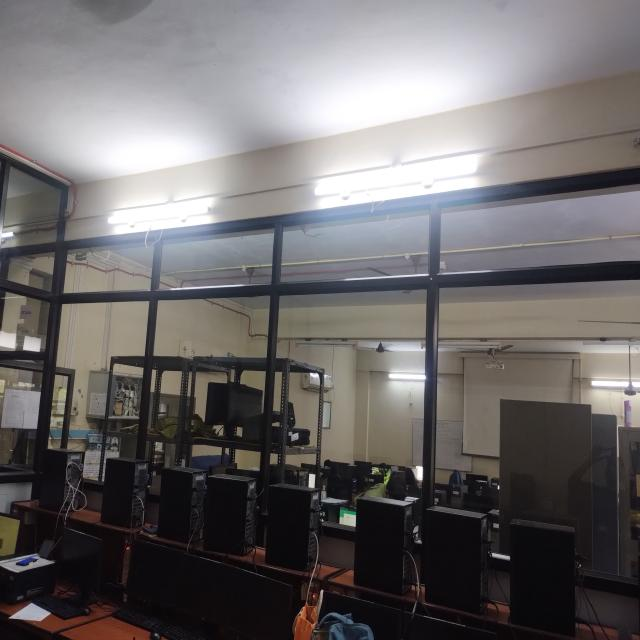fan_off: (369, 260, 437, 295), (460, 341, 520, 362), (222, 271, 273, 290), (580, 318, 640, 332)
fan_on: (0, 0, 153, 46), (594, 336, 640, 397), (347, 339, 403, 361)
tubelight_off: (418, 336, 505, 356), (294, 333, 366, 352), (578, 337, 640, 353)
tubelight_on: (314, 150, 486, 206), (103, 199, 218, 232), (588, 374, 640, 394), (384, 367, 431, 385), (0, 226, 21, 246)
